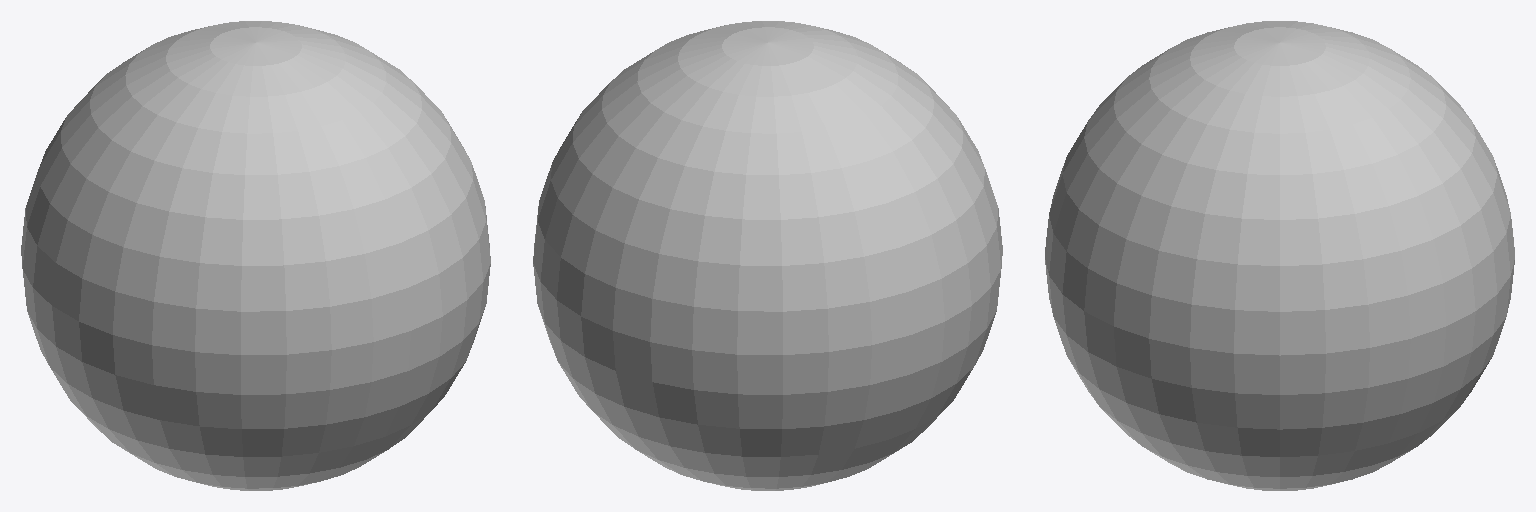
File: snake_segment.obj
3 renders of one model, left to right at view 1: azimuth 30°, elevation 25°; view 2: azimuth 150°, elevation 25°; view 3: azimuth 270°, elevation 25°, orthographic.
Visible parts, largest first — view 1: Sphere; view 2: Sphere; view 3: Sphere.
Part boxes in pixels (bbox=[...]): Sphere: bbox=[21, 21, 490, 490]; Sphere: bbox=[533, 21, 1002, 490]; Sphere: bbox=[1045, 21, 1514, 490].
Size of the model in its own units: 4.55 by 4.55 by 4.55.